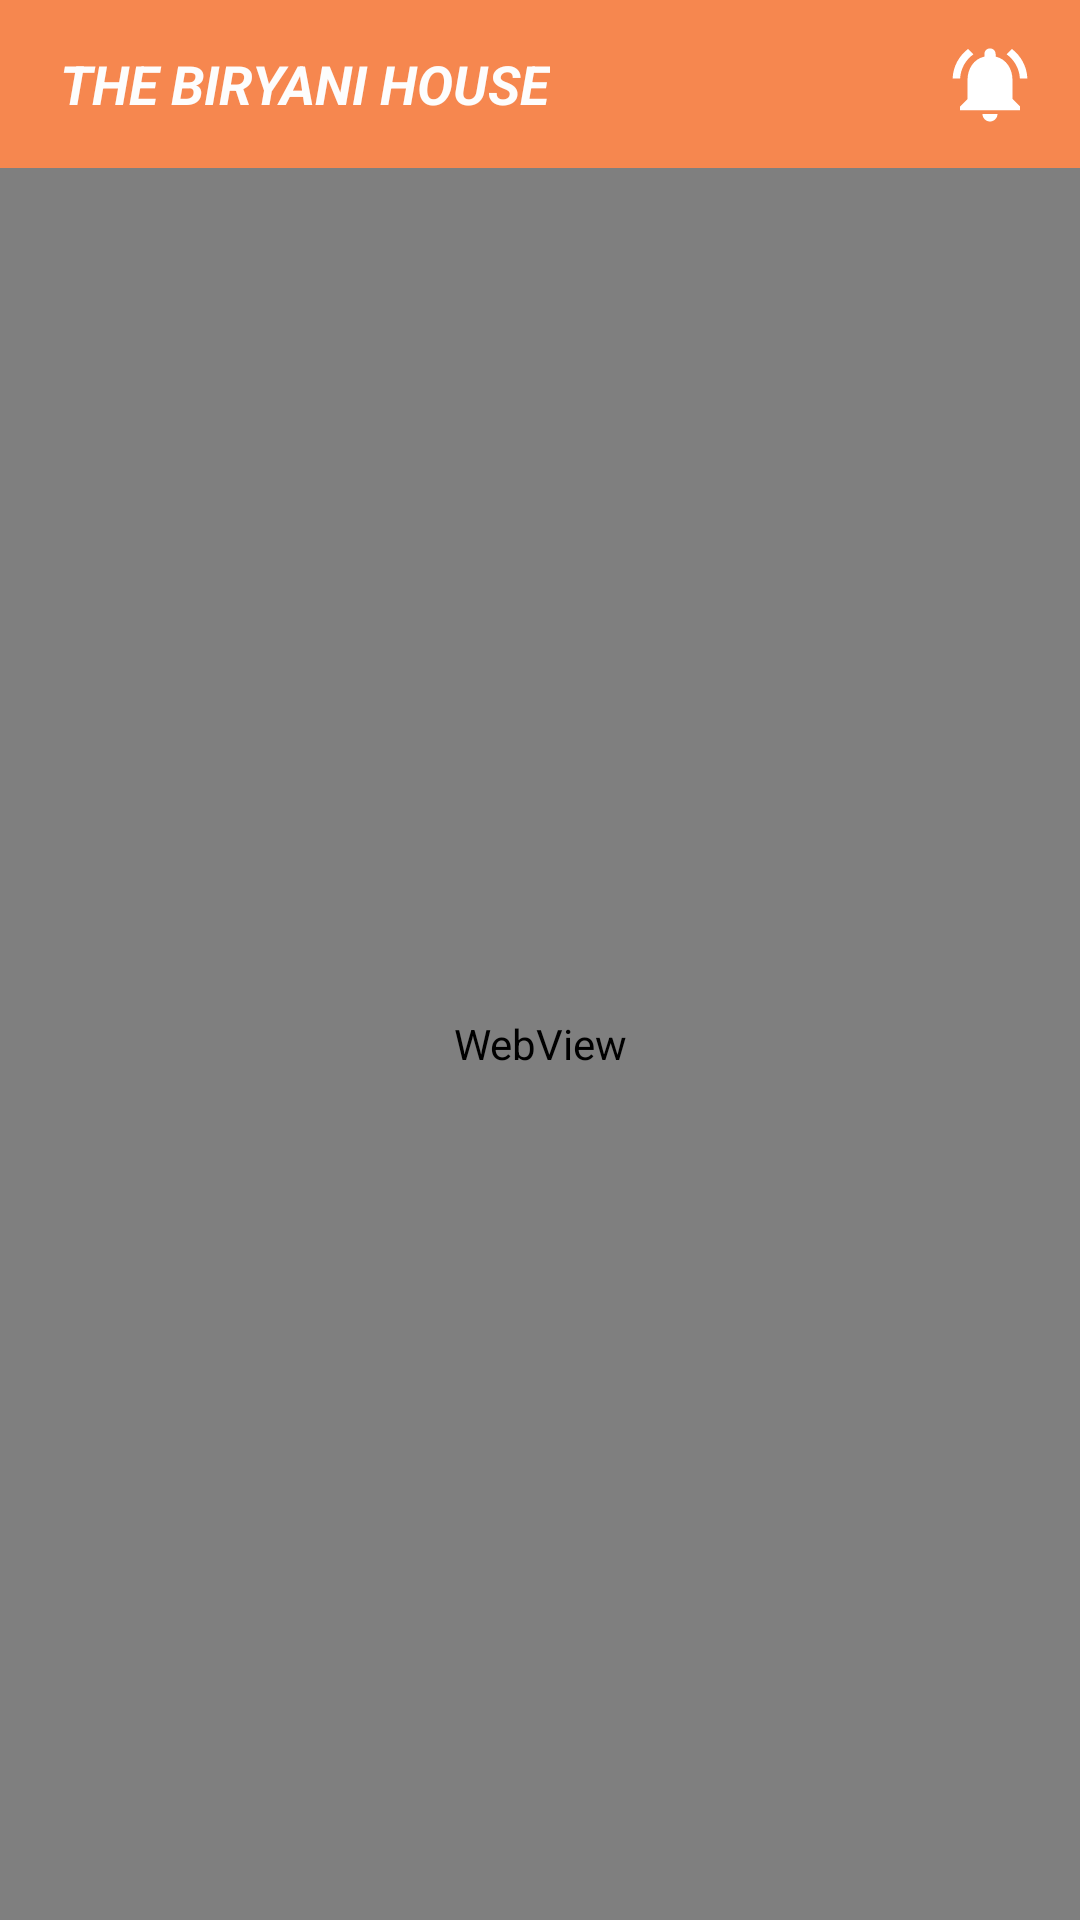

Icons on this 1080x1920 Android screen, each with its box as (x1=x1, y1=y1, x2=x2, y2=y2):
notification: (x1=952, y1=48, x2=1028, y2=122)
